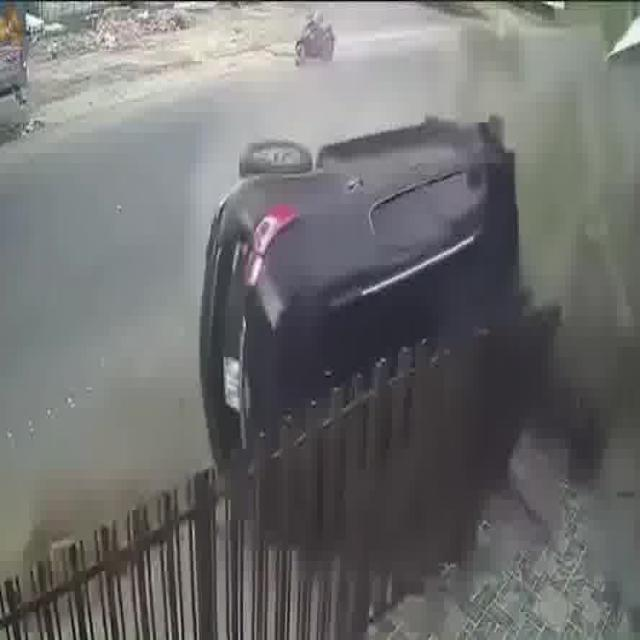single accident: (190, 85, 640, 600)
